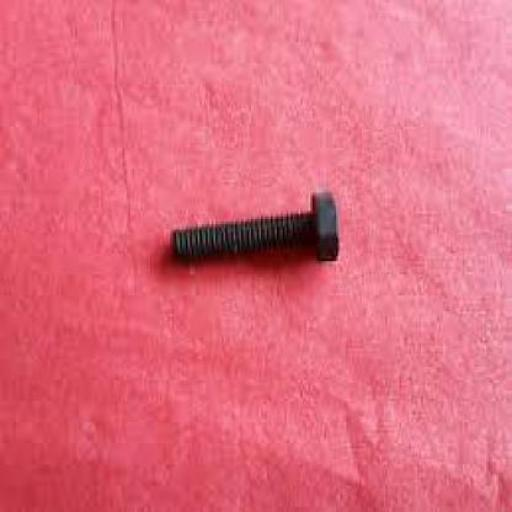bolt: (170, 191, 340, 263)
